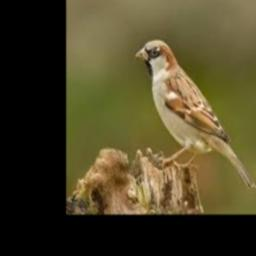Sparrow: (135, 40, 256, 190)
